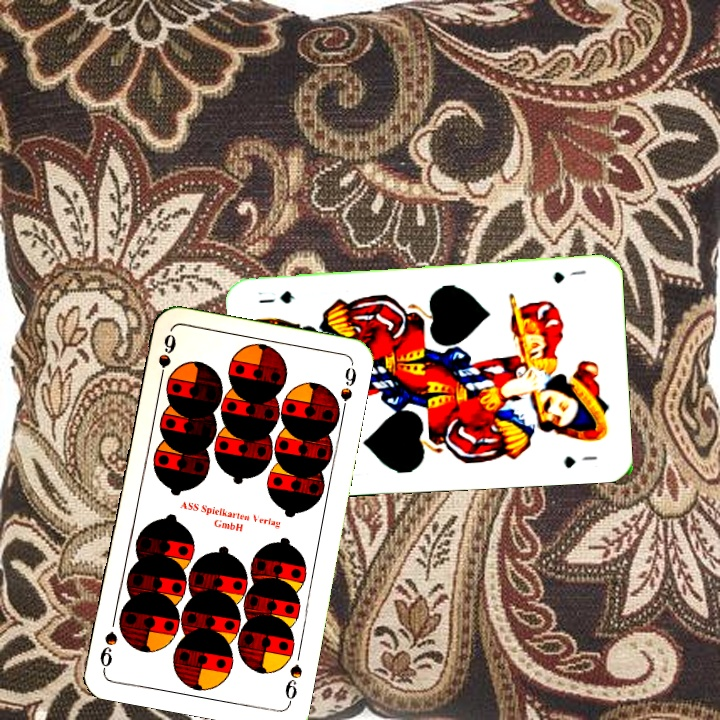GU: (549, 266, 588, 286)
S9: (154, 329, 179, 388), (280, 660, 305, 707)
